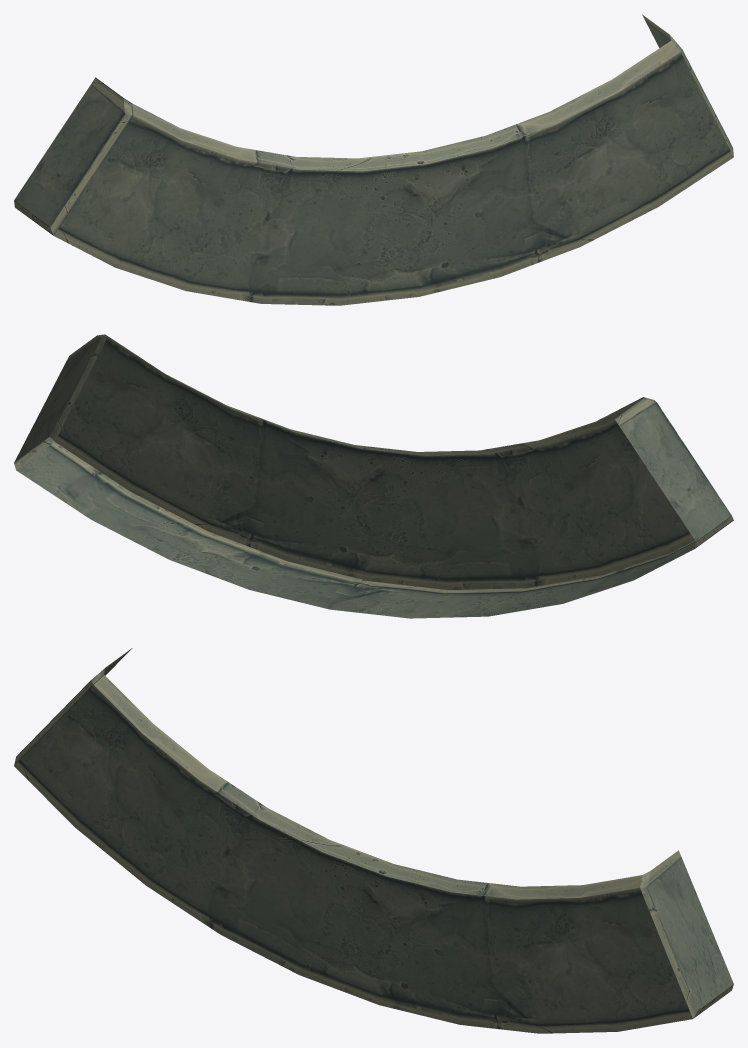
The model's file is HUB_Main_Center_Platform_B.fbx.
3 views of the same model, one above another, from view 1: azimuth 30°, elevation 25°; view 2: azimuth 150°, elevation 25°; view 3: azimuth 330°, elevation 25° (orthographic).
Parts seen in each view (by area): view 1: HUB_Main_Center_Platform_B; view 2: HUB_Main_Center_Platform_B; view 3: HUB_Main_Center_Platform_B.
Boxes of the visible parts, x1=… form: HUB_Main_Center_Platform_B: x1=14, y1=14, x2=733, y2=305; HUB_Main_Center_Platform_B: x1=14, y1=334, x2=733, y2=618; HUB_Main_Center_Platform_B: x1=14, y1=648, x2=733, y2=1033.
Bounding box in the file's own units: 2203 × 803 × 217.
